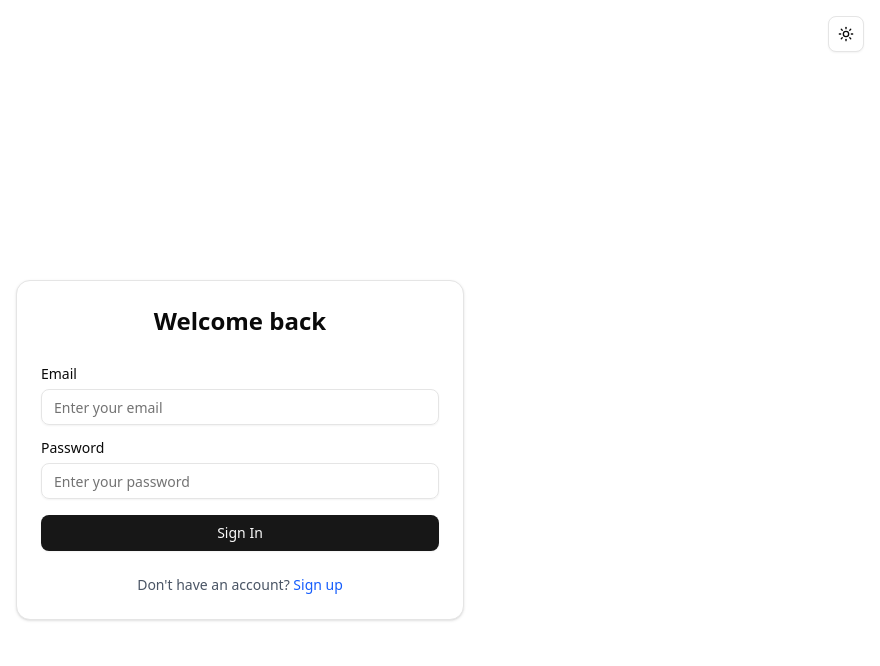
it: LoginForm › shows error when fields are empty
Click the button "Sign In". click: click(240, 533)
box: [41,515,439,551]
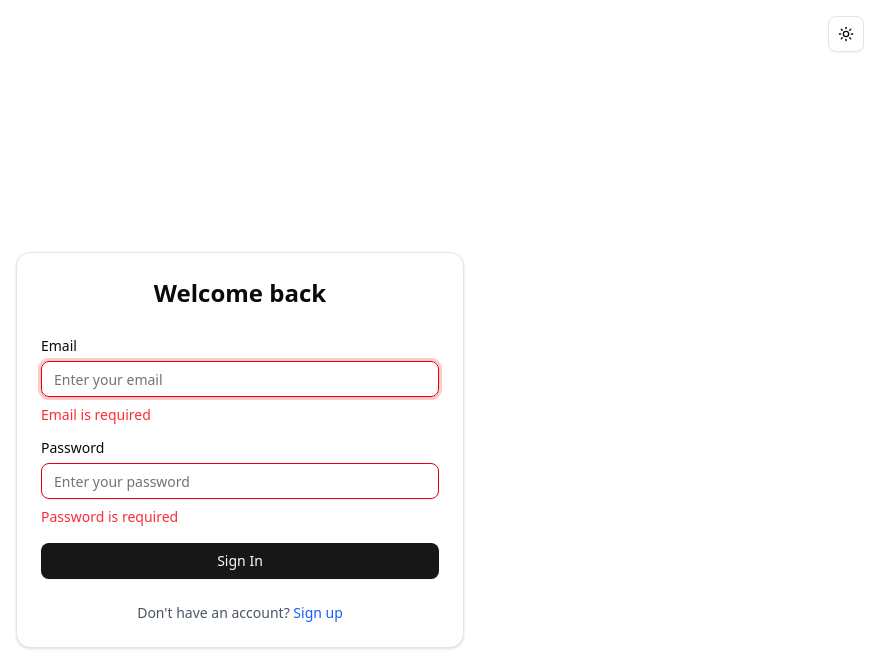
Check: the text "Email is required" is shown, box [41,405,151,424]
Check: the text "Password is required" is shown, box [41,507,178,526]
